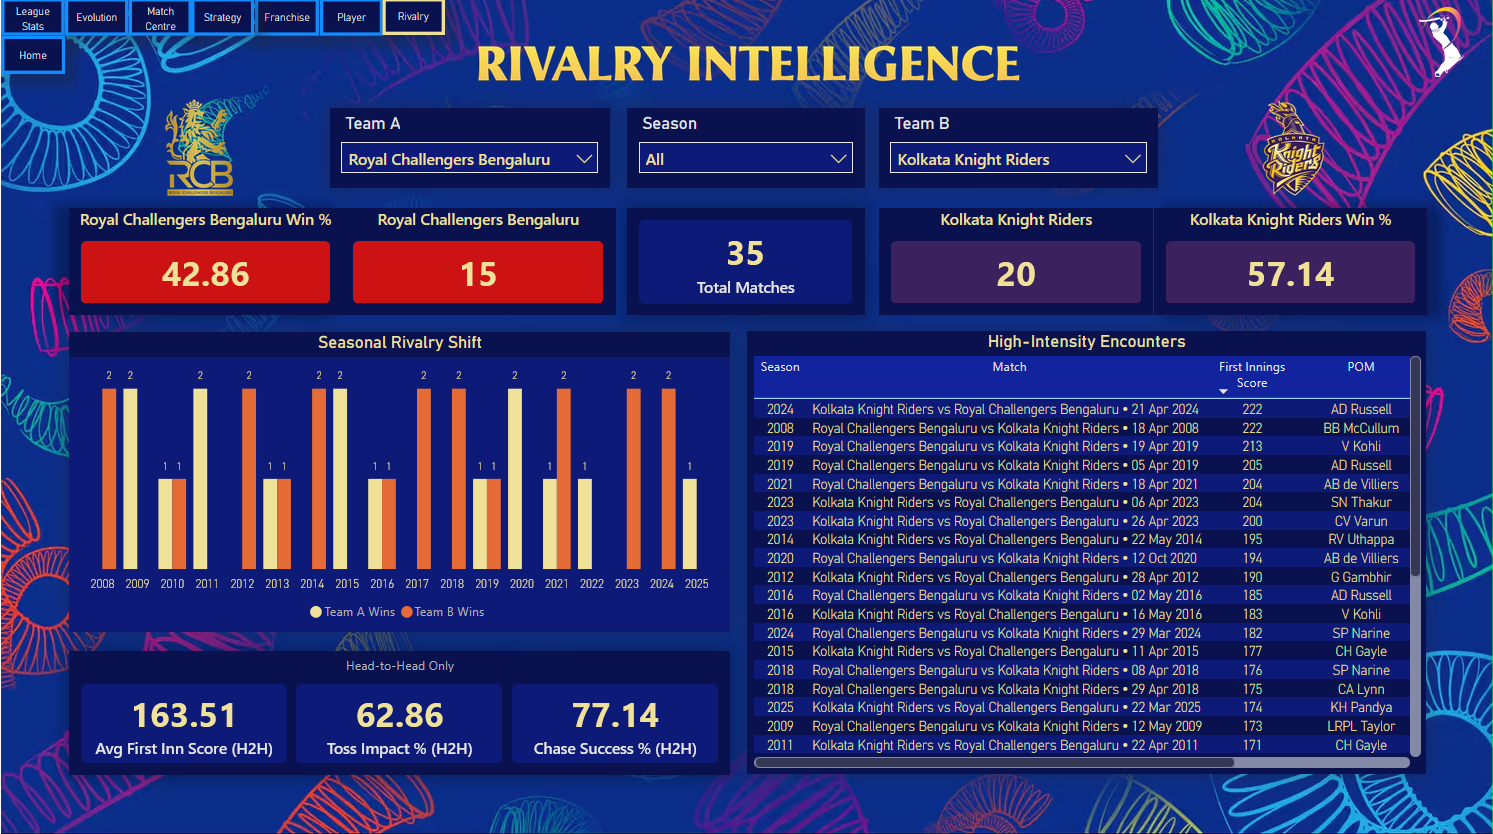

Layout of this report page (visuals, bound fields, positions):
{"tool":"powerbi","page":{"name":"Rivalry Intelligence","canvas":[1280,720],"ordinal":7},"visuals":[{"type":"actionButton","box":[0,0,54.7,32.5],"z":0,"group":"g2"},{"type":"cardVisual","fields":{"Data":["All Measures.Rivalry Team B Wins"]},"box":[753.4,180.4,235.2,92],"z":0},{"type":"actionButton","box":[54.7,0,54.7,32.5],"z":1000,"group":"g2"},{"type":"cardVisual","fields":{"Data":["All Measures.Rivalry Team A Win %"]},"box":[57.7,180.4,234.4,92],"z":1000},{"type":"actionButton","box":[108.9,0,54.5,32.5],"z":2000,"group":"g2"},{"type":"clusteredColumnChart","title":"Seasonal Rivalry Shift","fields":{"Y":["All Measures.Rivalry Team A Wins","All Measures.Rivalry Team B Wins"],"Category":["Dim_Season.season"]},"box":[57.7,285.9,568.1,257.7],"z":2000},{"type":"actionButton","box":[217.8,0,55.2,32.5],"z":3000,"group":"g2"},{"type":"cardVisual","fields":{"Data":["All Measures.Rivalry Avg First Inn Score","All Measures.Rivalry Toss Impact %","All Measures.Rivalry Chase Success %"]},"box":[57.7,559.5,568.1,106.7],"z":3000},{"type":"actionButton","box":[273,0,54.5,32.5],"z":4000,"group":"g2"},{"type":"tableEx","title":"High-Intensity Encounters","fields":{"Values":["ipl_matches.season","ipl_matches.Match Short Label","Sum(ipl_matches.First Innings Score)","ipl_matches.player_of_match","ipl_matches.Venue Clean"]},"box":[640.5,285.6,582.8,380.4],"z":4000},{"type":"actionButton","box":[327.6,0,54,31.9],"z":5000,"group":"g2"},{"type":"slicer","fields":{"Values":["Dim_Season.season"]},"box":[537.4,94.5,203.7,68.7],"z":5000,"group":"g1"},{"type":"cardVisual","fields":{"Data":["All Measures.Rivalry Team B Win %"]},"box":[989,180.4,234.4,92],"z":5000},{"type":"actionButton","box":[163.4,0,54.5,32.5],"z":6000,"group":"g2"},{"type":"cardVisual","fields":{"Data":["All Measures.Rivalry Team A Wins"]},"box":[292,180.4,235.6,92],"z":6000},{"type":"actionButton","box":[0,31.9,55.2,33.1],"z":7000,"group":"g2"},{"type":"image","box":[57.7,87.1,224.5,83.4],"z":7000},{"type":"image","box":[993.9,87.1,229.4,83.4],"z":8000},{"type":"slicer","fields":{"Values":["Dim_Team.team"]},"box":[282.2,94.5,240.5,68.7],"z":9000,"group":"g1"},{"type":"cardVisual","fields":{"Data":["All Measures.Rivalry Total Matches"]},"box":[537.4,180.4,203.7,92],"z":9000},{"type":"image","box":[406.1,16,468.7,78.5],"z":10000},{"type":"slicer","fields":{"Values":["Dim_Team_Rival.team"]},"box":[753.4,94.5,240,68.7],"z":10000,"group":"g1"},{"type":"group","id":"g1","title":"Group 2","box":[282.2,94.5,711.7,68.7],"z":11000},{"type":"image","box":[1202.5,7.4,67.5,60.1],"z":12000},{"type":"group","id":"g2","title":"Group 1","box":[0,0,381.6,65],"z":13000}]}

Visuals, with their boxes in screenshot pixels (x1, y1, x2, y2), scaled from the page's 1280x720 canvas onto the 1493x834 screenshot:
actionButton: 0, 0, 64, 38
cardVisual - All Measures.Rivalry Team B Wins: 879, 209, 1153, 316
actionButton: 64, 0, 128, 38
cardVisual - All Measures.Rivalry Team A Win %: 67, 209, 341, 316
actionButton: 127, 0, 191, 38
"Seasonal Rivalry Shift" clusteredColumnChart: 67, 331, 730, 630
actionButton: 254, 0, 318, 38
cardVisual - All Measures.Rivalry Avg First Inn Score x All Measures.Rivalry Toss Impact %: 67, 648, 730, 772
actionButton: 318, 0, 382, 38
"High-Intensity Encounters" tableEx: 747, 331, 1427, 771
actionButton: 382, 0, 445, 37
slicer - Dim_Season.season: 627, 109, 864, 189
cardVisual - All Measures.Rivalry Team B Win %: 1154, 209, 1427, 316
actionButton: 191, 0, 254, 38
cardVisual - All Measures.Rivalry Team A Wins: 341, 209, 615, 316
actionButton: 0, 37, 64, 75
image: 67, 101, 329, 197
image: 1159, 101, 1427, 197
slicer - Dim_Team.team: 329, 109, 610, 189
cardVisual - All Measures.Rivalry Total Matches: 627, 209, 864, 316
image: 474, 19, 1020, 109
slicer - Dim_Team_Rival.team: 879, 109, 1159, 189
"Group 2" group: 329, 109, 1159, 189
image: 1403, 9, 1481, 78
"Group 1" group: 0, 0, 445, 75
